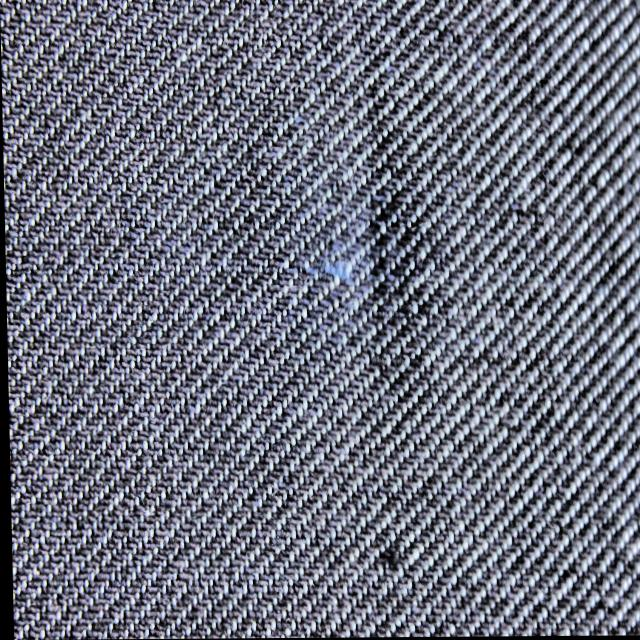Hole: (284, 222, 362, 309), (361, 512, 413, 597)
